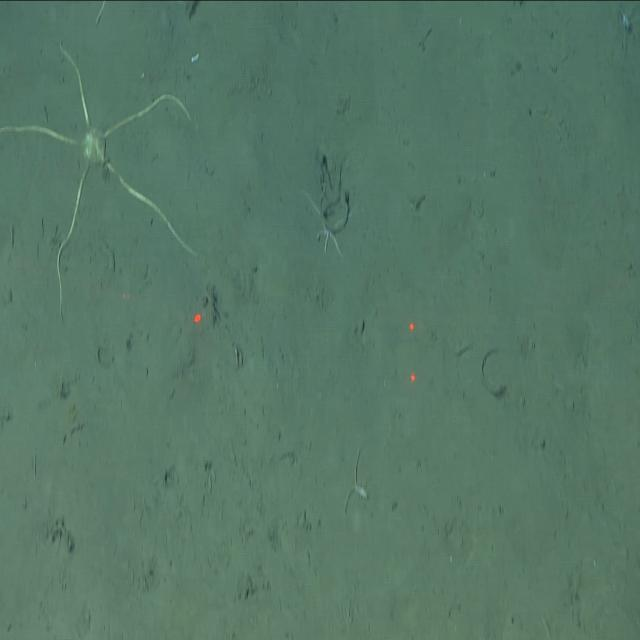Brittle Star: (0, 31, 201, 322), (301, 187, 348, 263)
Not Brittle Star: (342, 439, 372, 518)
